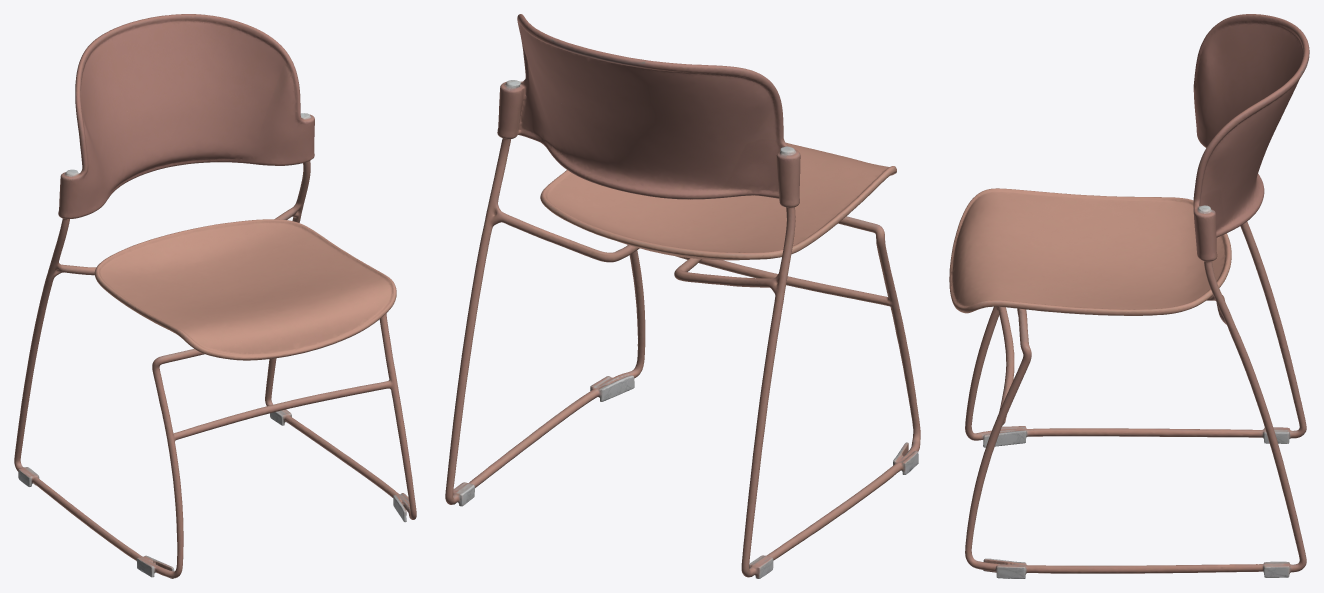
The model's file is Week2_B.glb.
3 renders of one model, left to right at view 1: azimuth 30°, elevation 25°; view 2: azimuth 150°, elevation 25°; view 3: azimuth 270°, elevation 25°, orthographic. The views are drawn at different scales.
Size of the model in its own units: 1.26 by 1.9 by 1.35.
1 material, 1 textured.
